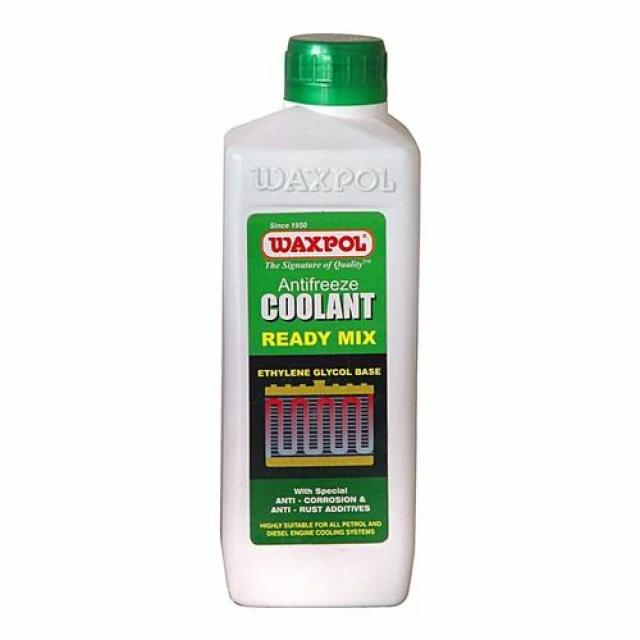coolant: (218, 28, 418, 614)
